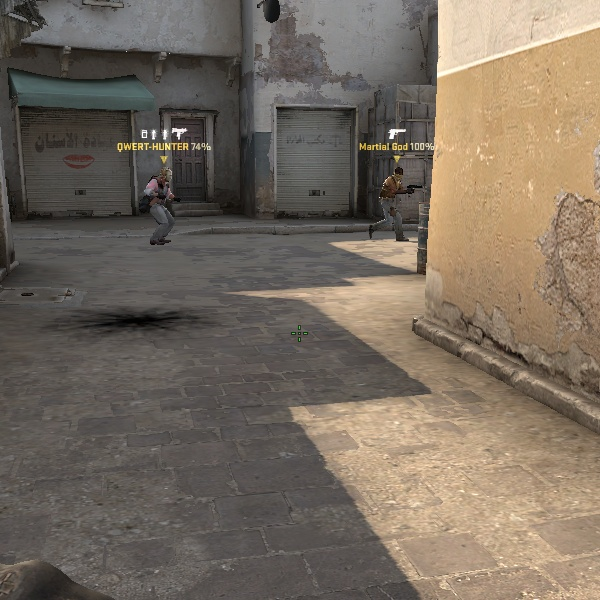t_body: (136, 164, 186, 247), (371, 164, 417, 243)
t_head: (159, 166, 174, 185), (392, 166, 405, 181)
